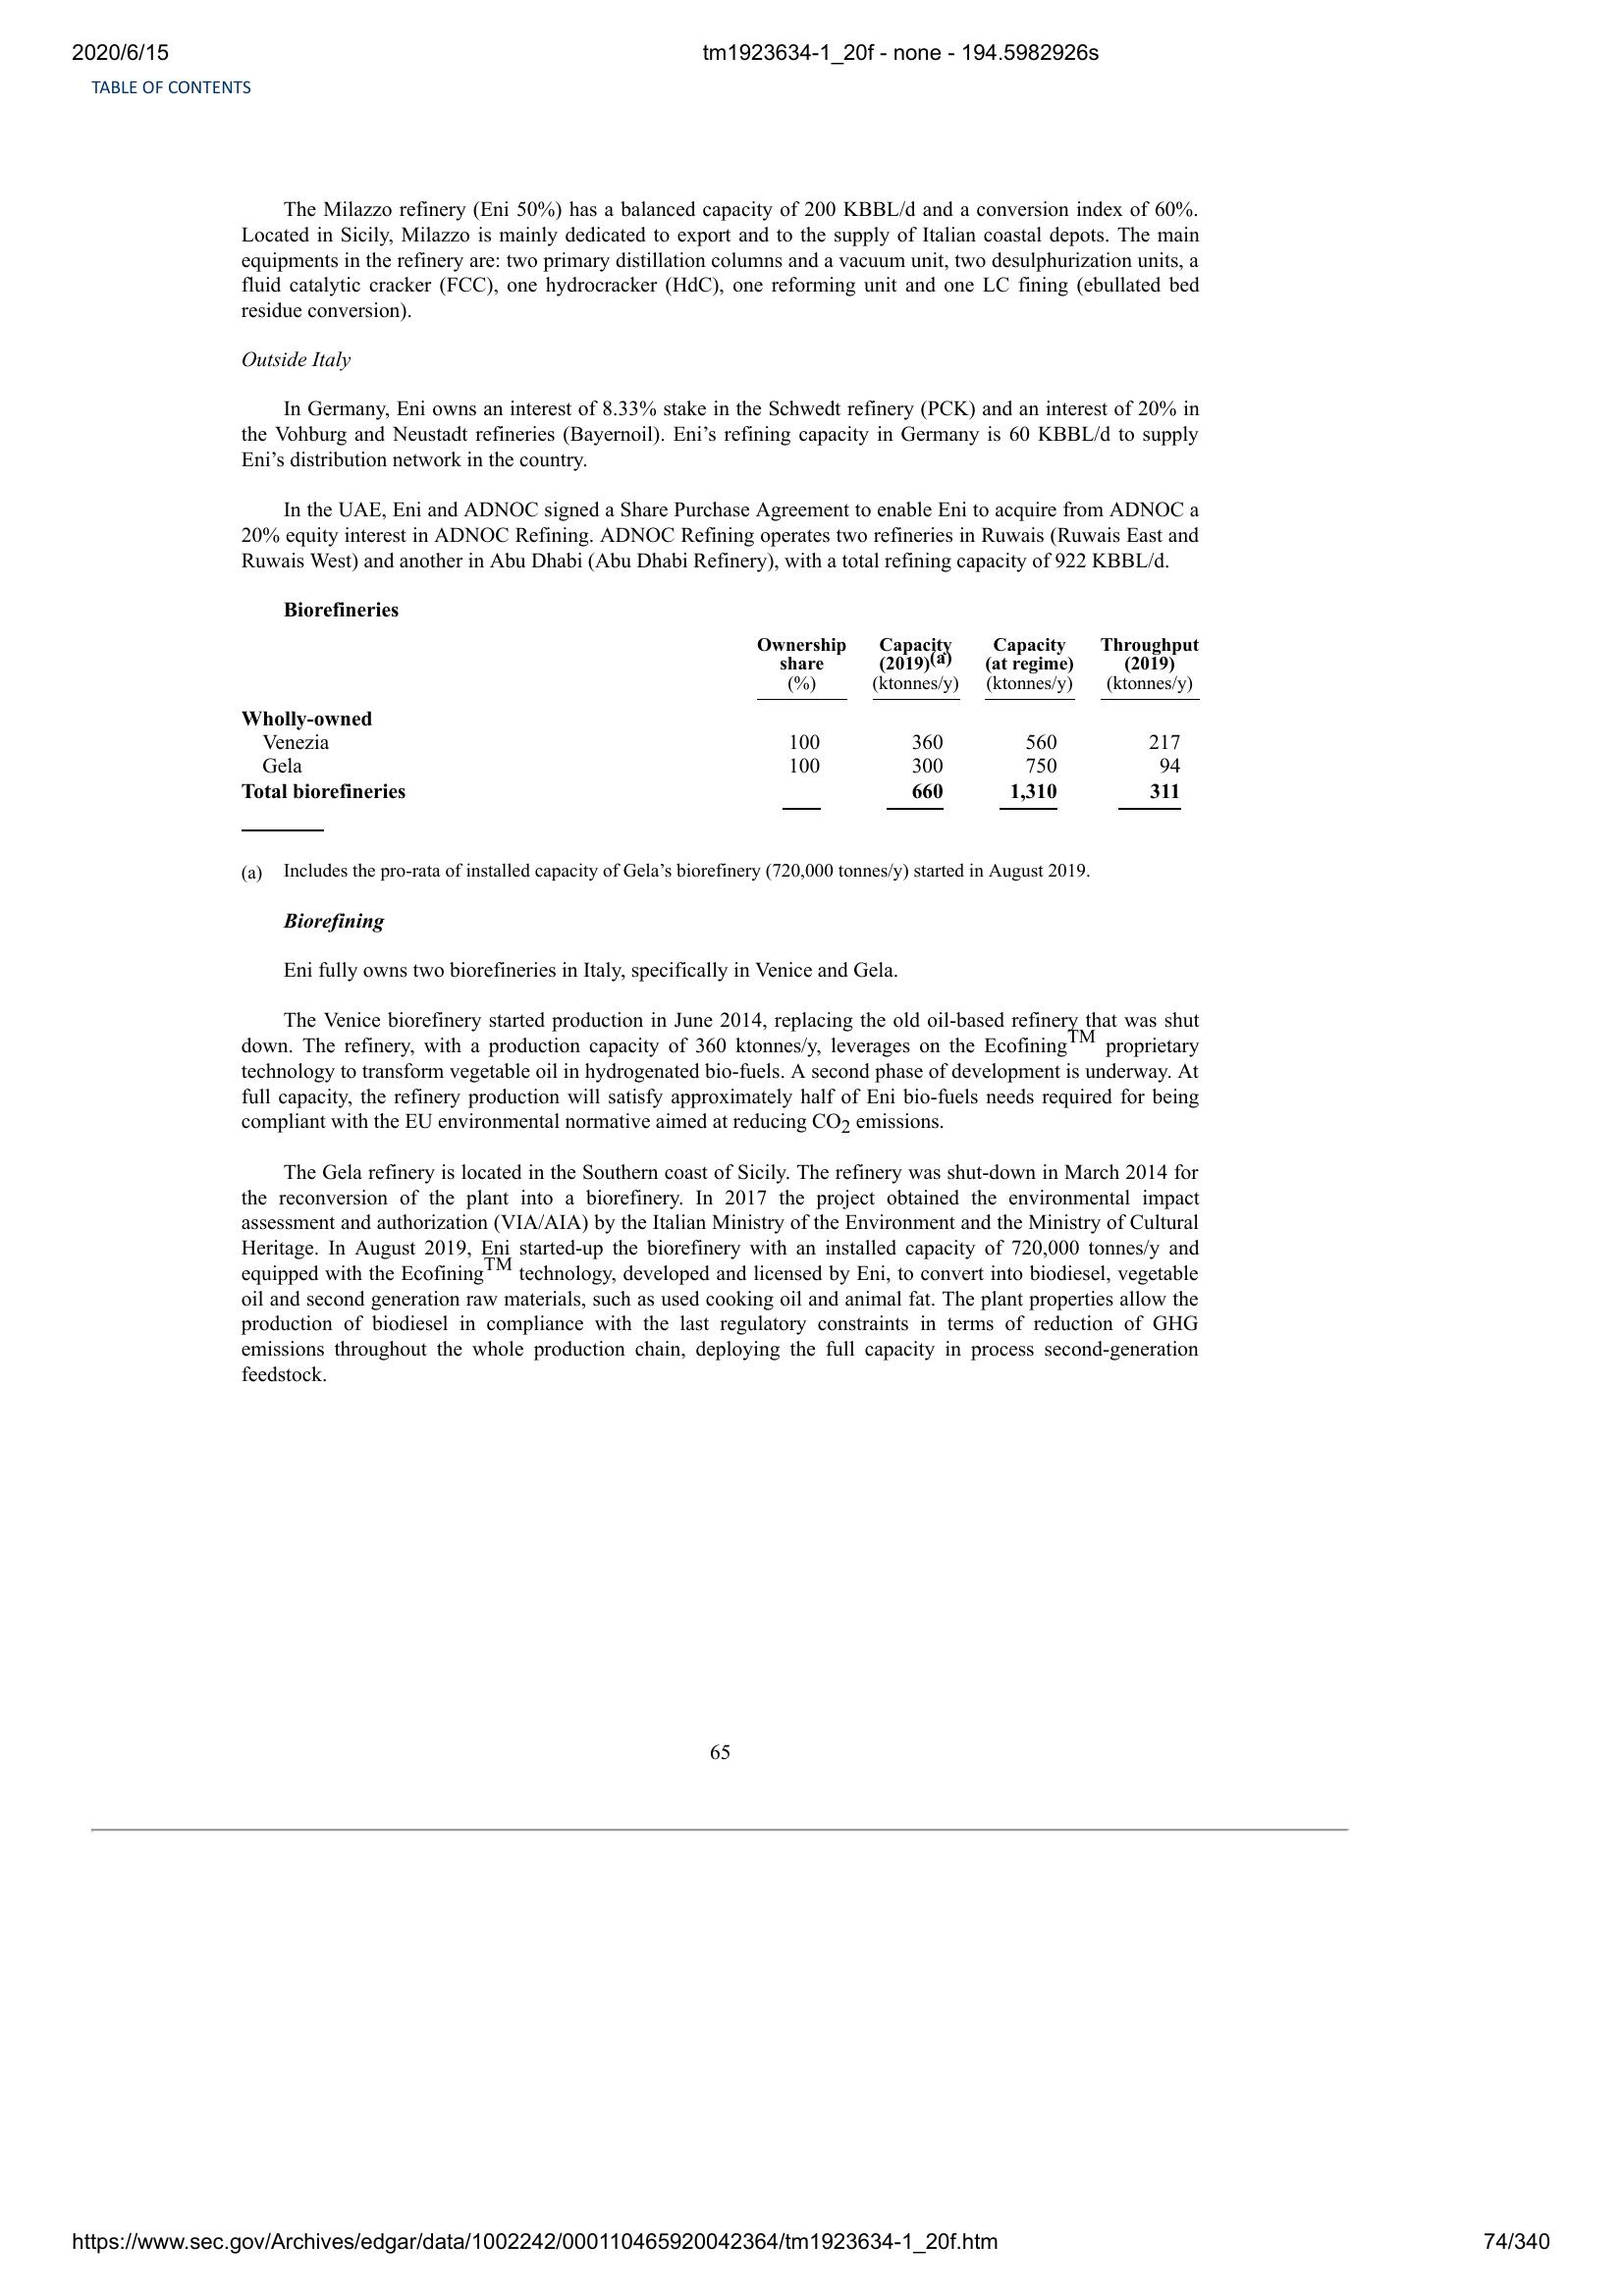table: (232, 627, 1212, 814)
